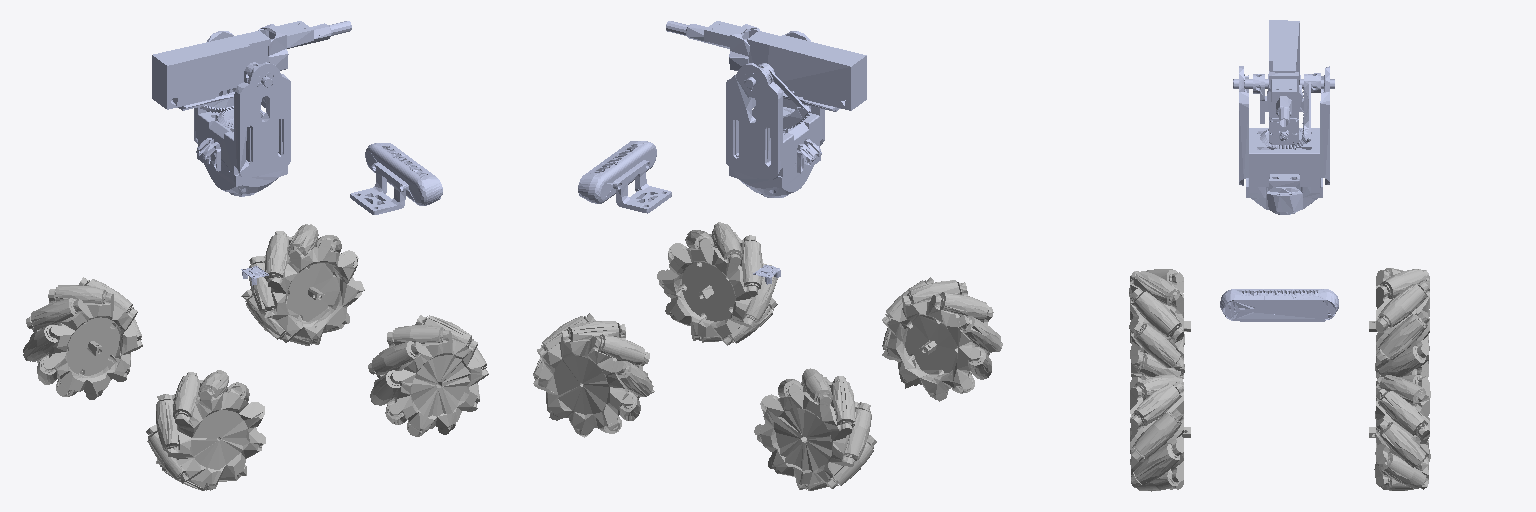
URDF robot description (urdf_export):
<?xml version="1.0" encoding="utf-8"?>
<!-- This URDF was automatically created by SolidWorks to URDF Exporter! Originally created by Stephen Brawner (brawner@gmail.com) 
     Commit Version: 1.6.0-4-g7f85cfe  Build Version: 1.6.7995.38578
     For more information, please see http://wiki.ros.org/sw_urdf_exporter -->
<robot
  name="urdf_export">
  <link
    name="base_link">
    <inertial>
      <origin
        xyz="0.0129111405613619 0.00100406093605498 0.0307687949064424"
        rpy="0 0 0" />
      <mass
        value="0.964680037794373" />
      <inertia
        ixx="0.00133297495789473"
        ixy="5.72601593845763E-07"
        ixz="1.40084681271861E-06"
        iyy="0.00097076129549354"
        iyz="5.65008391640129E-06"
        izz="0.00215021967835251" />
    </inertial>
    <visual>
      <origin
        xyz="0 0 0"
        rpy="0 0 0" />
      <geometry>
        <mesh
          filename="package://urdf_export/meshes/base_link.STL" />
      </geometry>
      <material
        name="">
        <color
          rgba="0.792156862745098 0.819607843137255 0.933333333333333 1" />
      </material>
    </visual>
    <collision>
      <origin
        xyz="0 0 0"
        rpy="0 0 0" />
      <geometry>
        <mesh
          filename="package://urdf_export/meshes/base_link.STL" />
      </geometry>
    </collision>
  </link>
  <link
    name="FR_wheel_link">
    <inertial>
      <origin
        xyz="-1.12238911775808E-08 2.49019151743468E-07 0.000839836772267288"
        rpy="0 0 0" />
      <mass
        value="0.221044278947542" />
      <inertia
        ixx="7.35812074462489E-05"
        ixy="-3.04647444834031E-10"
        ixz="-3.32175522625859E-10"
        iyy="7.35805110353754E-05"
        iyz="-7.01979223994559E-10"
        izz="9.09314003973903E-05" />
    </inertial>
    <visual>
      <origin
        xyz="0 0 0"
        rpy="0 0 0" />
      <geometry>
        <mesh
          filename="package://urdf_export/meshes/FR_wheel_link.STL" />
      </geometry>
      <material
        name="">
        <color
          rgba="0.752941176470588 0.752941176470588 0.752941176470588 1" />
      </material>
    </visual>
    <collision>
      <origin
        xyz="0 0 0"
        rpy="0 0 0" />
      <geometry>
        <mesh
          filename="package://urdf_export/meshes/FR_wheel_link.STL" />
      </geometry>
    </collision>
  </link>
  <joint
    name="FR_wheel_joint"
    type="continuous">
    <origin
      xyz="0.105049783522494 -0.102416310484091 -0.0368930627602887"
      rpy="1.57699275697367 0 0" />
    <parent
      link="base_link" />
    <child
      link="FR_wheel_link" />
    <axis
      xyz="0 0 1" />
    <limit
      lower="0"
      upper="0"
      effort="0"
      velocity="0" />
  </joint>
  <link
    name="mpu_link">
    <inertial>
      <origin
        xyz="-0.00179684618855307 -0.00021245760212546 -0.00140436947697253"
        rpy="0 0 0" />
      <mass
        value="0.000500550341105836" />
      <inertia
        ixx="1.01962053425485E-08"
        ixy="-3.69311898031353E-13"
        ixz="3.15973298478094E-13"
        iyy="5.974455020592E-09"
        iyz="-3.15694723183278E-13"
        izz="1.52147576541565E-08" />
    </inertial>
    <visual>
      <origin
        xyz="0 0 0"
        rpy="0 0 0" />
      <geometry>
        <mesh
          filename="package://urdf_export/meshes/mpu_link.STL" />
      </geometry>
      <material
        name="">
        <color
          rgba="0.792156862745098 0.819607843137255 0.933333333333333 1" />
      </material>
    </visual>
    <collision>
      <origin
        xyz="0 0 0"
        rpy="0 0 0" />
      <geometry>
        <mesh
          filename="package://urdf_export/meshes/mpu_link.STL" />
      </geometry>
    </collision>
  </link>
  <joint
    name="mpu_joint"
    type="fixed">
    <origin
      xyz="-0.000156292815823376 0.000178244779094172 0.0412509999999999"
      rpy="0 0 -0.000970212895559639" />
    <parent
      link="base_link" />
    <child
      link="mpu_link" />
    <axis
      xyz="0 0 0" />
  </joint>
  <link
    name="pan_link">
    <inertial>
      <origin
        xyz="-0.00127584102030208 -8.16441213563612E-06 0.052175043329052"
        rpy="0 0 0" />
      <mass
        value="0.140200821028311" />
      <inertia
        ixx="6.74412749594553E-05"
        ixy="-1.90196775465855E-09"
        ixz="-5.52217020142377E-07"
        iyy="6.67878796417588E-05"
        iyz="2.20369051138528E-09"
        izz="5.87083243754226E-05" />
    </inertial>
    <visual>
      <origin
        xyz="0 0 0"
        rpy="0 0 0" />
      <geometry>
        <mesh
          filename="package://urdf_export/meshes/pan_link.STL" />
      </geometry>
      <material
        name="">
        <color
          rgba="0.792156862745098 0.819607843137255 0.933333333333333 1" />
      </material>
    </visual>
    <collision>
      <origin
        xyz="0 0 0"
        rpy="0 0 0" />
      <geometry>
        <mesh
          filename="package://urdf_export/meshes/pan_link.STL" />
      </geometry>
    </collision>
  </link>
  <joint
    name="pan_joint"
    type="revolute">
    <origin
      xyz="-0.00979023033307008 0.00389949475552409 0.116"
      rpy="0 0 -0.00248547173161781" />
    <parent
      link="base_link" />
    <child
      link="pan_link" />
    <axis
      xyz="0 0 1" />
    <limit
      lower="0"
      upper="0"
      effort="0"
      velocity="0" />
  </joint>
  <link
    name="tilt_link">
    <inertial>
      <origin
        xyz="-0.0129030483909279 0.0163785059670626 0.00123370765429931"
        rpy="0 0 0" />
      <mass
        value="0.118309563278742" />
      <inertia
        ixx="7.6267548207575E-05"
        ixy="3.40265654770505E-05"
        ixz="1.02395464364245E-07"
        iyy="4.05612136929341E-05"
        iyz="5.32102370193482E-08"
        izz="0.000105422416916065" />
    </inertial>
    <visual>
      <origin
        xyz="0 0 0"
        rpy="0 0 0" />
      <geometry>
        <mesh
          filename="package://urdf_export/meshes/tilt_link.STL" />
      </geometry>
      <material
        name="">
        <color
          rgba="0.792156862745098 0.819607843137255 0.933333333333333 1" />
      </material>
    </visual>
    <collision>
      <origin
        xyz="0 0 0"
        rpy="0 0 0" />
      <geometry>
        <mesh
          filename="package://urdf_export/meshes/tilt_link.STL" />
      </geometry>
    </collision>
  </link>
  <joint
    name="tilt_joint"
    type="revolute">
    <origin
      xyz="0 -0.000259846402898389 0.115"
      rpy="-1.5707963267949 0.930751592772579 0" />
    <parent
      link="pan_link" />
    <child
      link="tilt_link" />
    <axis
      xyz="0 0 -1" />
    <limit
      lower="0"
      upper="0"
      effort="0"
      velocity="0" />
  </joint>
  <link
    name="CSI_link">
    <inertial>
      <origin
        xyz="-0.369444799934793 -0.361802819221584 -0.0614120701482083"
        rpy="0 0 0" />
      <mass
        value="0" />
      <inertia
        ixx="0"
        ixy="0"
        ixz="0"
        iyy="0"
        iyz="0"
        izz="0" />
    </inertial>
    <visual>
      <origin
        xyz="0 0 0"
        rpy="0 0 0" />
      <geometry>
        <mesh
          filename="package://urdf_export/meshes/CSI_link.STL" />
      </geometry>
      <material
        name="">
        <color
          rgba="0.792156862745098 0.819607843137255 0.933333333333333 1" />
      </material>
    </visual>
    <collision>
      <origin
        xyz="0 0 0"
        rpy="0 0 0" />
      <geometry>
        <mesh
          filename="package://urdf_export/meshes/CSI_link.STL" />
      </geometry>
    </collision>
  </link>
  <joint
    name="CSI_joint"
    type="fixed">
    <origin
      xyz="0.0445922904171207 0 0"
      rpy="0.930751592772577 1.5707963267949 0" />
    <parent
      link="tilt_link" />
    <child
      link="CSI_link" />
    <axis
      xyz="0 0 0" />
  </joint>
  <link
    name="RL_wheel_link">
    <inertial>
      <origin
        xyz="1.50468708132179E-07 -1.73325109042999E-07 0.000839836382504899"
        rpy="0 0 0" />
      <mass
        value="0.221044716131286" />
      <inertia
        ixx="7.35816845817064E-05"
        ixy="4.67050451048421E-10"
        ixz="-2.81284409122352E-10"
        iyy="7.35807955937862E-05"
        iyz="7.73687726346773E-10"
        izz="9.09321311413602E-05" />
    </inertial>
    <visual>
      <origin
        xyz="0 0 0"
        rpy="0 0 0" />
      <geometry>
        <mesh
          filename="package://urdf_export/meshes/RL_wheel_link.STL" />
      </geometry>
      <material
        name="">
        <color
          rgba="0.752941176470588 0.752941176470588 0.752941176470588 1" />
      </material>
    </visual>
    <collision>
      <origin
        xyz="0 0 0"
        rpy="0 0 0" />
      <geometry>
        <mesh
          filename="package://urdf_export/meshes/RL_wheel_link.STL" />
      </geometry>
    </collision>
  </link>
  <joint
    name="RL_joint"
    type="continuous">
    <origin
      xyz="-0.104949567835769 0.102416380051379 -0.0368930627599853"
      rpy="1.57699275697366 0 -3.14159265357483" />
    <parent
      link="base_link" />
    <child
      link="RL_wheel_link" />
    <axis
      xyz="0 0 -1" />
    <limit
      lower="0"
      upper="0"
      effort="0"
      velocity="0" />
  </joint>
  <link
    name="FL_wheel_link">
    <inertial>
      <origin
        xyz="5.0611250496102E-08 -1.35569615533626E-08 0.00087400676158117"
        rpy="0 0 0" />
      <mass
        value="0.206630560047768" />
      <inertia
        ixx="6.14871666411918E-05"
        ixy="2.72460009602584E-10"
        ixz="2.92188820036095E-10"
        iyy="6.14879901168965E-05"
        iyz="-1.81243265140584E-10"
        izz="7.45384537508005E-05" />
    </inertial>
    <visual>
      <origin
        xyz="0 0 0"
        rpy="0 0 0" />
      <geometry>
        <mesh
          filename="package://urdf_export/meshes/FL_wheel_link.STL" />
      </geometry>
      <material
        name="">
        <color
          rgba="0.752941176470588 0.752941176470588 0.752941176470588 1" />
      </material>
    </visual>
    <collision>
      <origin
        xyz="0 0 0"
        rpy="0 0 0" />
      <geometry>
        <mesh
          filename="package://urdf_export/meshes/FL_wheel_link.STL" />
      </geometry>
    </collision>
  </link>
  <joint
    name="FL_joint"
    type="continuous">
    <origin
      xyz="0.105049783519428 0.10241636001417 -0.0368962968951229"
      rpy="1.57699275697366 0 -3.14159265357483" />
    <parent
      link="base_link" />
    <child
      link="FL_wheel_link" />
    <axis
      xyz="0 0 1" />
    <limit
      lower="0"
      upper="0"
      effort="0"
      velocity="0" />
  </joint>
  <link
    name="RR_wheel_link">
    <inertial>
      <origin
        xyz="-1.48121460236128E-09 -5.3244697539867E-08 0.000873995559190377"
        rpy="0 0 0" />
      <mass
        value="0.206630729812606" />
      <inertia
        ixx="6.14879817049835E-05"
        ixy="3.31220272775818E-10"
        ixz="4.94322408002252E-12"
        iyy="6.14873363559276E-05"
        iyz="-3.45028628919068E-10"
        izz="7.45385215935962E-05" />
    </inertial>
    <visual>
      <origin
        xyz="0 0 0"
        rpy="0 0 0" />
      <geometry>
        <mesh
          filename="package://urdf_export/meshes/RR_wheel_link.STL" />
      </geometry>
      <material
        name="">
        <color
          rgba="0.752941176470588 0.752941176470588 0.752941176470588 1" />
      </material>
    </visual>
    <collision>
      <origin
        xyz="0 0 0"
        rpy="0 0 0" />
      <geometry>
        <mesh
          filename="package://urdf_export/meshes/RR_wheel_link.STL" />
      </geometry>
    </collision>
  </link>
  <joint
    name="RR_joint"
    type="continuous">
    <origin
      xyz="-0.10494956783301 -0.102416290446887 -0.0368962968951215"
      rpy="1.57699275697367 0 0" />
    <parent
      link="base_link" />
    <child
      link="RR_wheel_link" />
    <axis
      xyz="0 0 1" />
    <limit
      lower="0"
      upper="0"
      effort="0"
      velocity="0" />
  </joint>
  <link
    name="realsense_link">
    <inertial>
      <origin
        xyz="-2.0560798869862E-05 0.00195479814861865 -0.0132070875590155"
        rpy="0 0 0" />
      <mass
        value="0.048022330463154" />
      <inertia
        ixx="3.74884598677567E-06"
        ixy="1.38172854881844E-08"
        ixz="8.17769524736086E-09"
        iyy="3.32851319906951E-05"
        iyz="2.49101447008147E-07"
        izz="3.36541114052342E-05" />
    </inertial>
    <visual>
      <origin
        xyz="0 0 0"
        rpy="0 0 0" />
      <geometry>
        <mesh
          filename="package://urdf_export/meshes/realsense_link.STL" />
      </geometry>
      <material
        name="">
        <color
          rgba="0.792156862745098 0.819607843137255 0.933333333333333 1" />
      </material>
    </visual>
    <collision>
      <origin
        xyz="0 0 0"
        rpy="0 0 0" />
      <geometry>
        <mesh
          filename="package://urdf_export/meshes/realsense_link.STL" />
      </geometry>
    </collision>
  </link>
  <joint
    name="realsense_joint"
    type="fixed">
    <origin
      xyz="0.151649761044997 -0.000319057523601396 0.0978168695060898"
      rpy="-1.5707963267949 0.00271324763830418 -1.57328179852652" />
    <parent
      link="base_link" />
    <child
      link="realsense_link" />
    <axis
      xyz="0 0 0" />
  </joint>
</robot>

--- What the picture shows (computed from the rendered views, not written in the file) ---
The picture shows the robot from 3 angles, left to right: view 1: azimuth 30°, elevation 25°; view 2: azimuth 150°, elevation 25°; view 3: azimuth 270°, elevation 25°; orthographic projection.
Robot: urdf_export — 10 links, 9 joints (2 revolute, 4 continuous, 3 fixed); root link base_link; default pose: every joint at zero.
Links seen in each view (by area): view 1: RL_wheel_link, FR_wheel_link, RR_wheel_link, FL_wheel_link, pan_link, tilt_link, realsense_link; view 2: RR_wheel_link, RL_wheel_link, FL_wheel_link, FR_wheel_link, pan_link, tilt_link, realsense_link; view 3: pan_link, FL_wheel_link, FR_wheel_link, RR_wheel_link, RL_wheel_link, tilt_link, realsense_link, CSI_link.
Link boxes in pixels (x1,y1,x2,y2): RL_wheel_link: [23, 277, 142, 399]; FR_wheel_link: [368, 315, 488, 436]; RR_wheel_link: [146, 370, 265, 490]; FL_wheel_link: [241, 224, 364, 345]; pan_link: [194, 31, 290, 196]; tilt_link: [152, 21, 351, 112]; realsense_link: [350, 143, 442, 214]; RR_wheel_link: [882, 277, 1002, 401]; RL_wheel_link: [754, 368, 876, 490]; FL_wheel_link: [533, 313, 654, 437]; FR_wheel_link: [657, 222, 777, 345]; pan_link: [726, 31, 824, 197]; tilt_link: [666, 21, 866, 129]; realsense_link: [578, 141, 671, 213]; pan_link: [1233, 66, 1334, 214]; FL_wheel_link: [1369, 375, 1430, 490]; FR_wheel_link: [1130, 375, 1190, 491]; RR_wheel_link: [1129, 269, 1190, 378]; RL_wheel_link: [1369, 268, 1429, 378]; tilt_link: [1253, 20, 1320, 143]; realsense_link: [1220, 289, 1338, 321]; CSI_link: [1269, 118, 1298, 144].
Bounding box of the posed robot: 0.3085 × 0.2527 × 0.341 m (x, y, z).
9 mesh visuals loaded from 10 distinct referenced files (9 binary STL); not drawn: 1 (reference not matched to a file when rendering).
